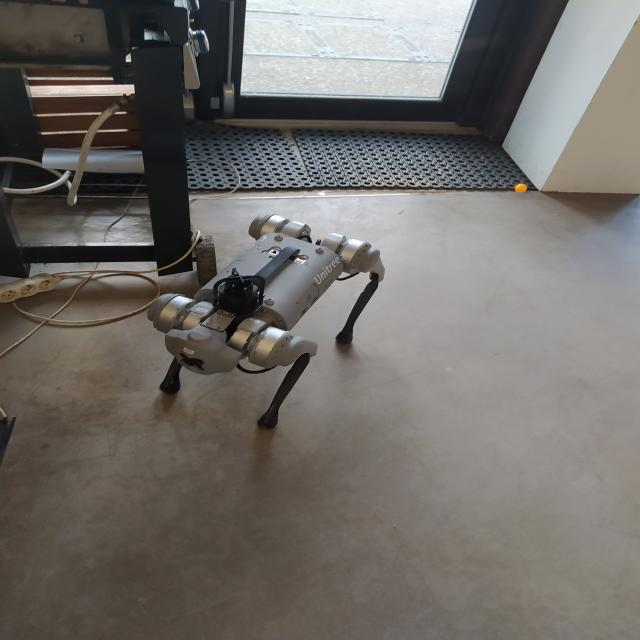unitree-go1-robot: (155, 221, 386, 440)
